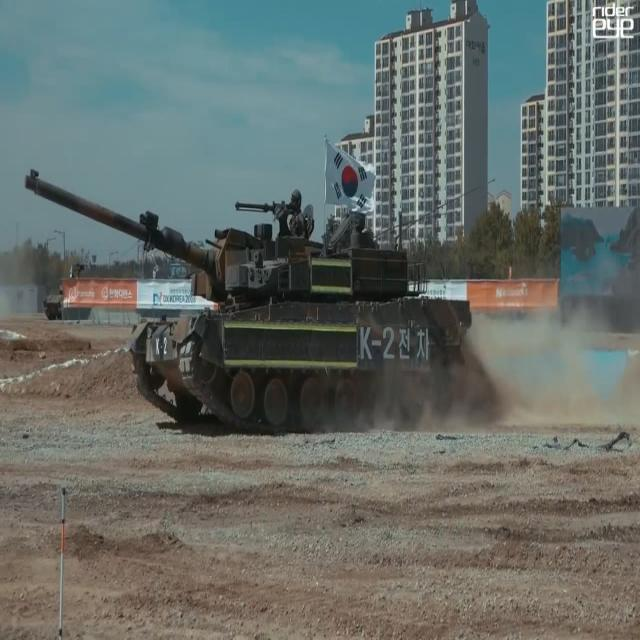korea tank: (21, 167, 476, 432)
